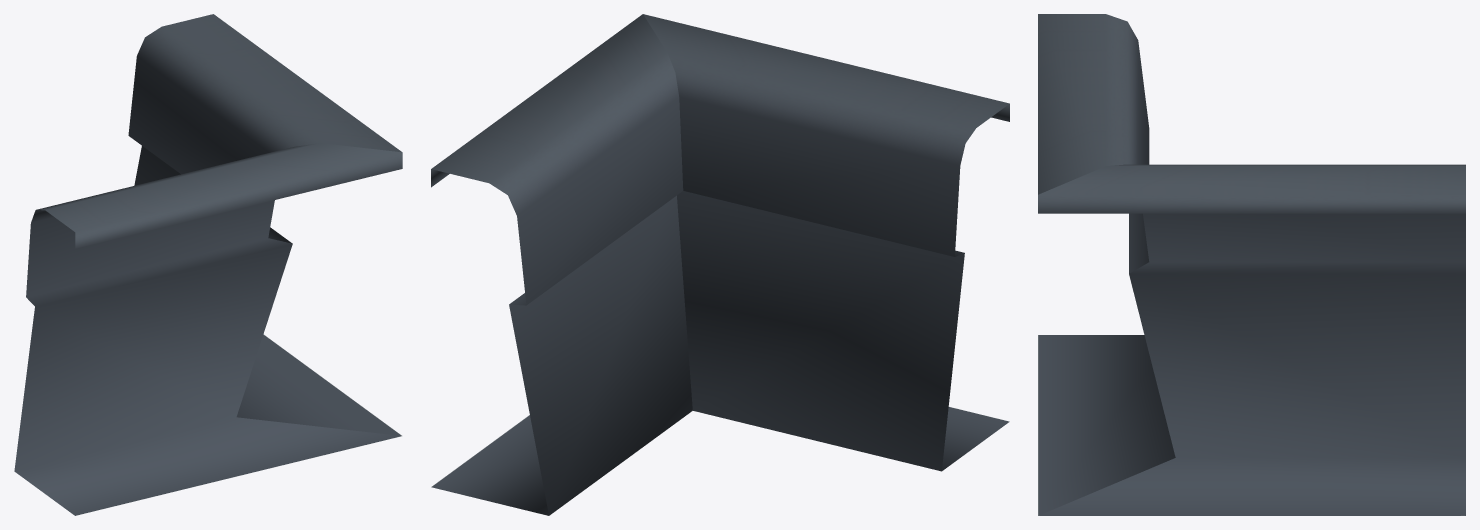
Rendered from Wall_Corner.fbx.
3 renders of one model, left to right at view 1: azimuth 30°, elevation 25°; view 2: azimuth 150°, elevation 25°; view 3: azimuth 270°, elevation 25°, orthographic. The views are drawn at different scales.
Parts seen in each view (by area): view 1: Wall_Corner; view 2: Wall_Corner; view 3: Wall_Corner.
Part boxes in pixels (box(x1,y1,x2,y2)): Wall_Corner: box(14, 14, 402, 515); Wall_Corner: box(431, 14, 1009, 515); Wall_Corner: box(1038, 14, 1465, 515).
Size of the model in its own units: 1.47 by 1.22 by 1.47.
